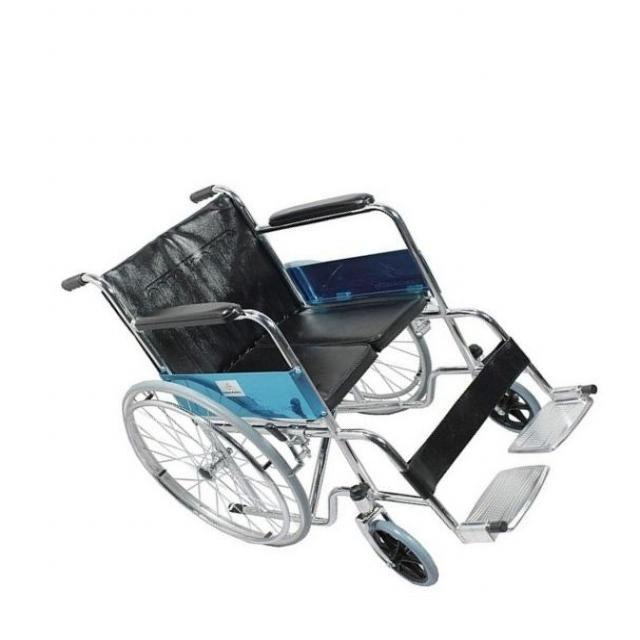wheelchair: (47, 170, 608, 600)
